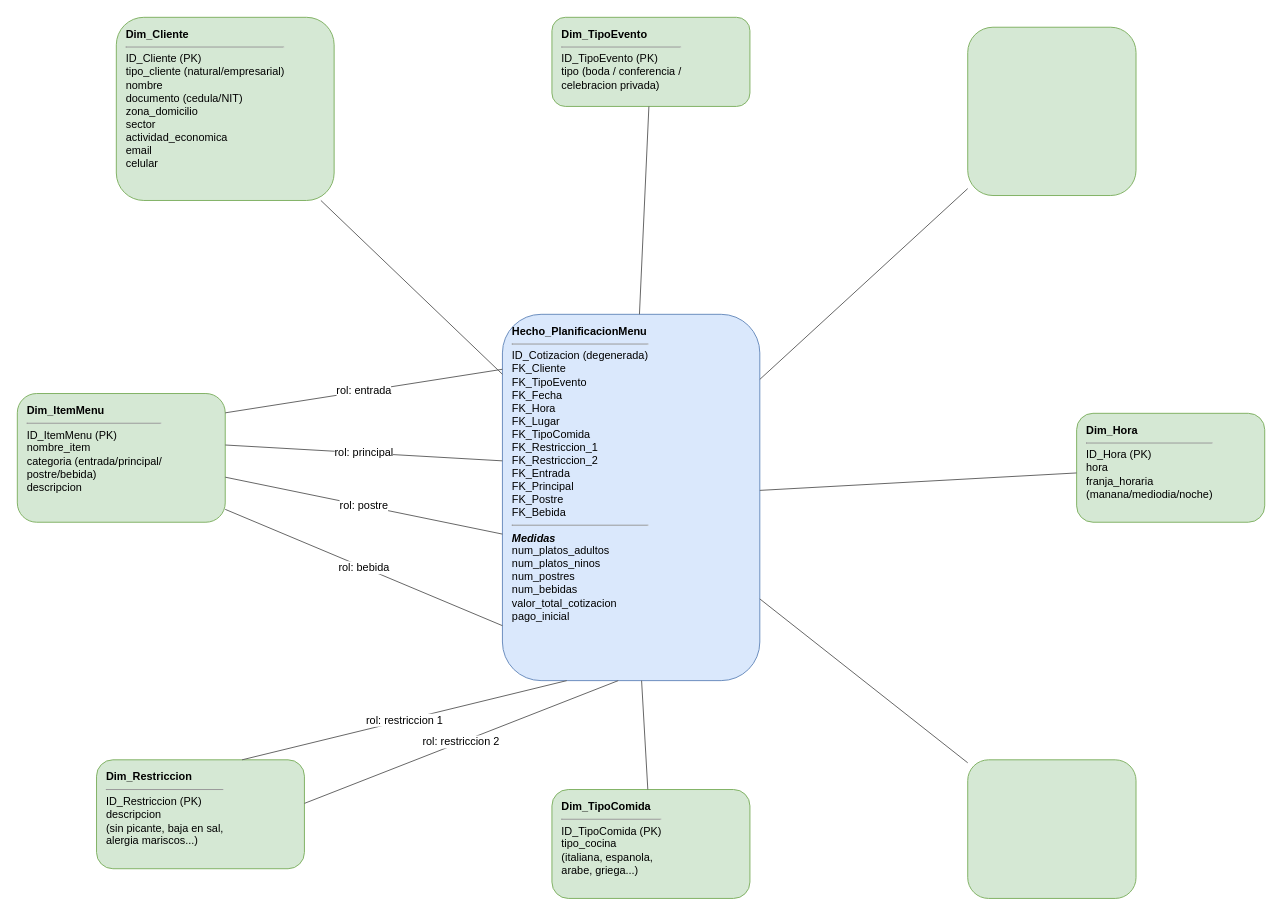
Some shapes in this 1282 by 916 pixel diagram are drawn without their labels. Each missing label, with the centre of its shape:
"Dim_Fecha ID_Fecha (PK) fecha dia mes trimestre anio dia_semana temporada" belongs at point 1051,111.
"Dim_Lugar ID_Lugar (PK) nombre direccion ciudad zona capacidad" belongs at point 1051,828.
